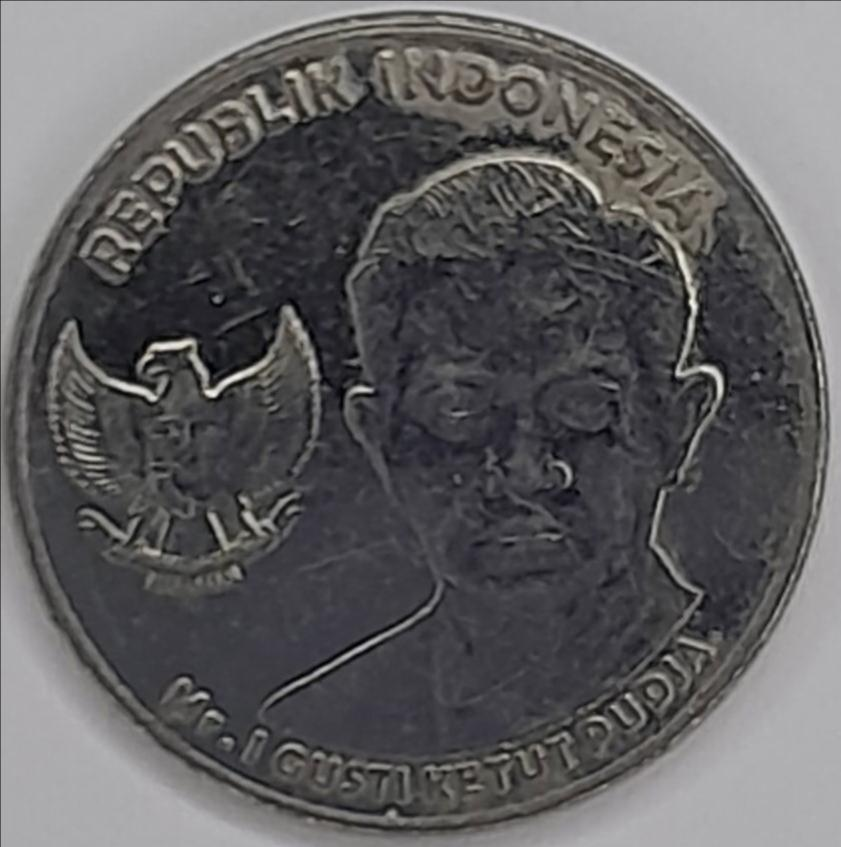coin_1000_e2016: (14, 17, 830, 847)
